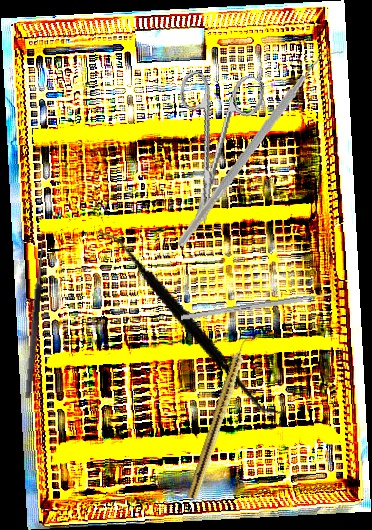Chopper: (178, 37, 343, 260)
Handpiece: (186, 333, 254, 501)
Hook Surgical: (17, 236, 46, 399)
Iris Scissors: (156, 64, 267, 230)
Pusher: (180, 289, 344, 321)
Spatula Surgical: (62, 226, 319, 418)
